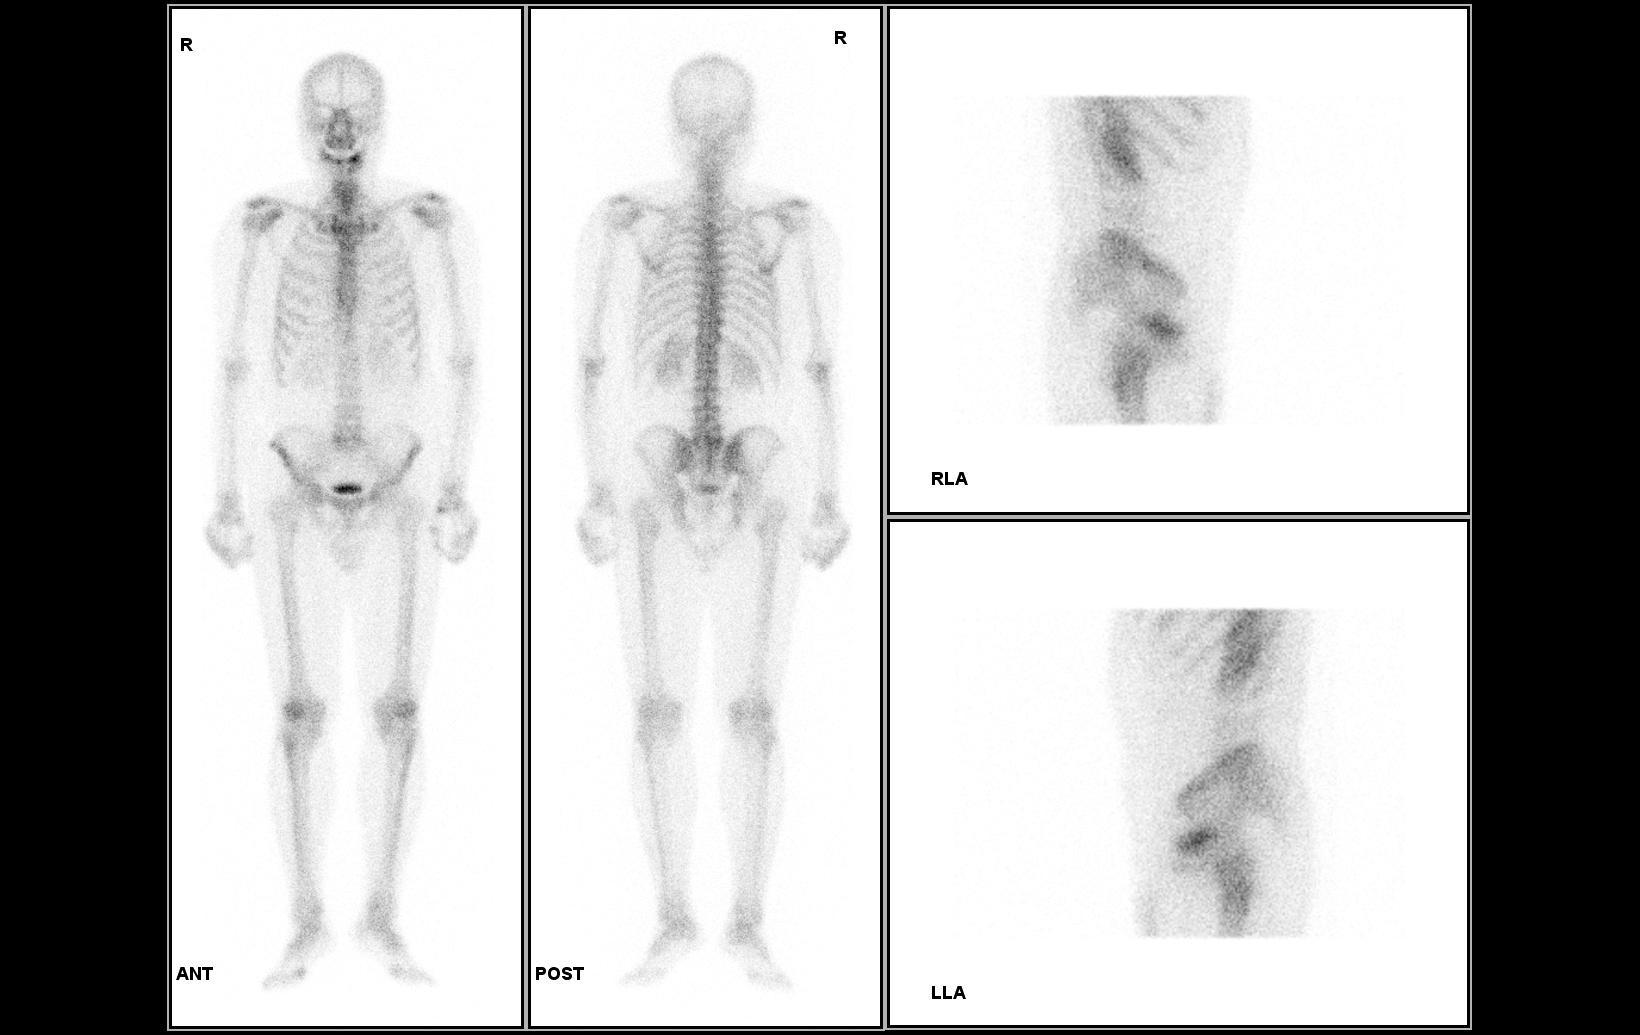person: (170, 6, 885, 1027)
